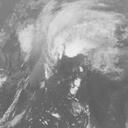cyclone: (40, 34, 95, 80)
